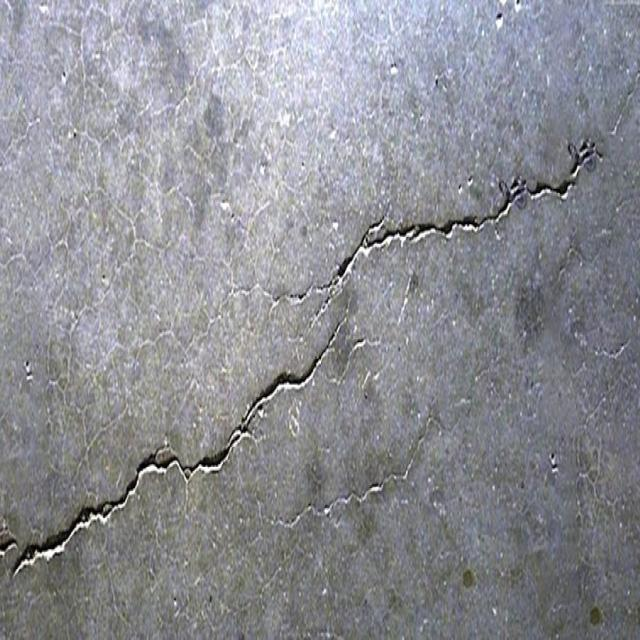Crack: (15, 305, 348, 570), (283, 142, 602, 318)
